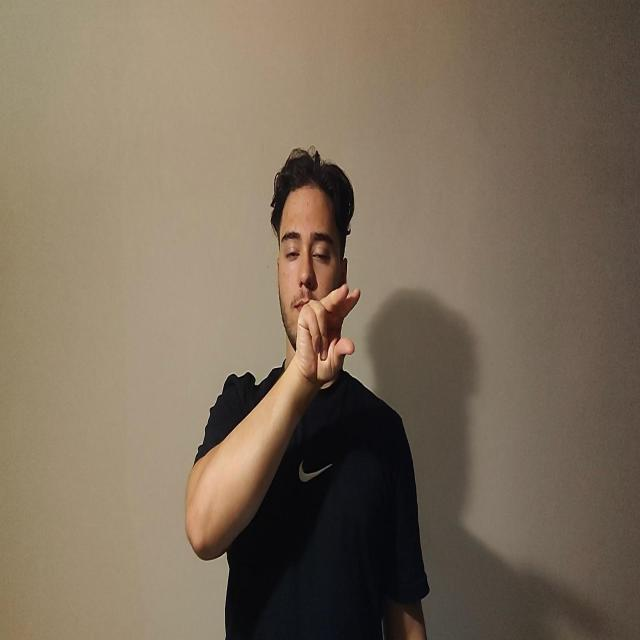no: (294, 282, 361, 388)
